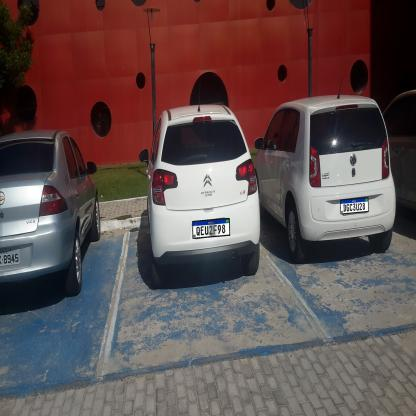PlacaM: (192, 218, 230, 239), (340, 198, 369, 214)
